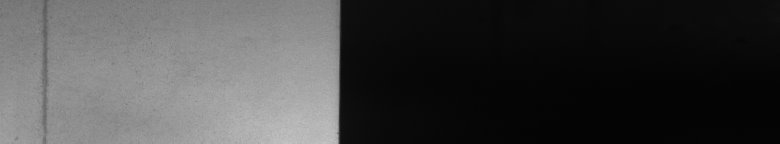hd: (36, 4, 52, 136)
